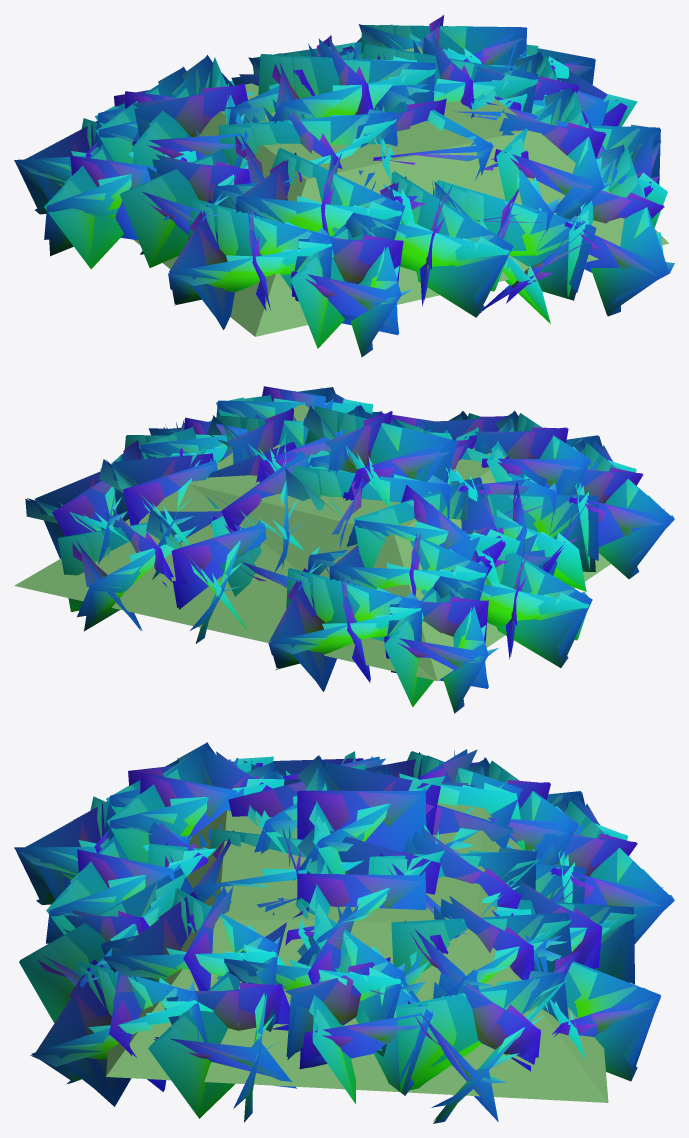
The model's file is generibush.dae.
The picture shows the model from 3 angles, top to bottom: view 1: azimuth 30°, elevation 25°; view 2: azimuth 150°, elevation 25°; view 3: azimuth 270°, elevation 25°; orthographic projection. The views are drawn at different scales.
Parts seen in each view (by area): view 1: generibush_a160, generibush_a1000, Colmesh-1; view 2: generibush_a160, generibush_a1000, Colmesh-1; view 3: generibush_a160, generibush_a1000, Colmesh-1.
Boxes of the visible parts, x1,y1,x2,y2 form: generibush_a160: (14,14,668,354); generibush_a1000: (14,15,674,357); Colmesh-1: (133,46,668,336); generibush_a160: (27,386,673,711); generibush_a1000: (25,387,674,713); Colmesh-1: (14,405,610,681); generibush_a160: (14,742,673,1121); generibush_a1000: (14,744,674,1123); Colmesh-1: (106,802,608,1102).
Bounding box in the file's own units: 5.64 × 4.98 × 1.83.
